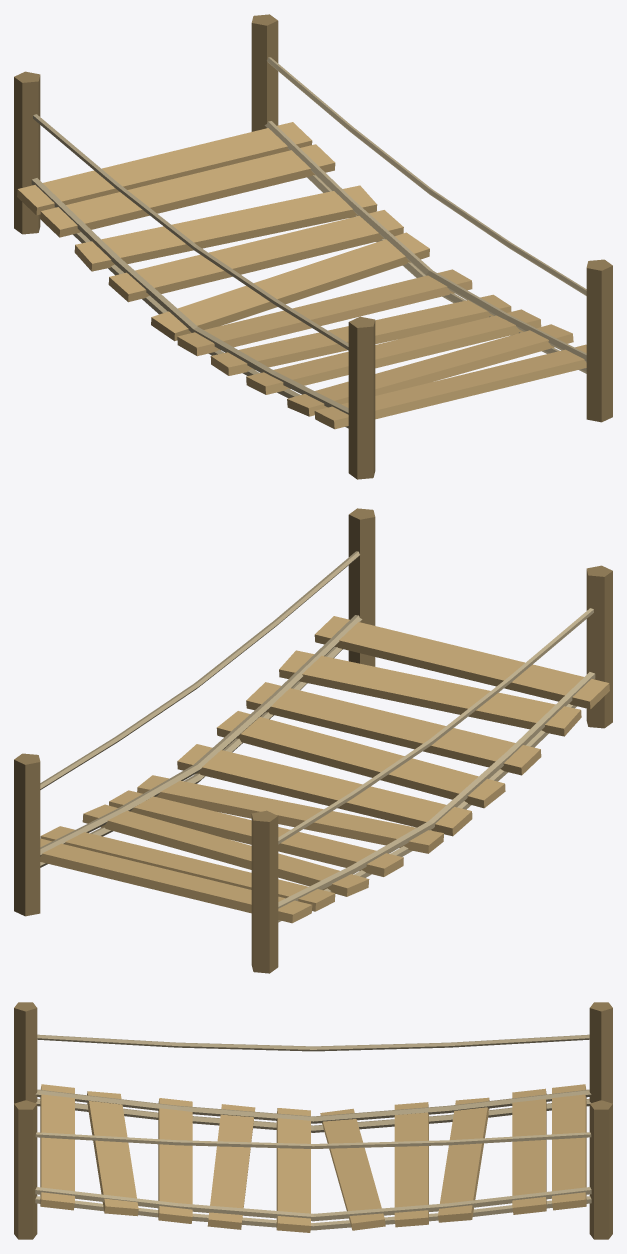
Rendered from Bridge_1_4.fbx.
3 views of the same model, one above another, from view 1: azimuth 30°, elevation 25°; view 2: azimuth 150°, elevation 25°; view 3: azimuth 270°, elevation 25° (orthographic). The views are drawn at different scales.
Visible parts, largest first — view 1: Bridge_1_4; view 2: Bridge_1_4; view 3: Bridge_1_4.
Part boxes in pixels (x1,y1,x2,y2): Bridge_1_4: [14, 14, 612, 479]; Bridge_1_4: [14, 508, 612, 973]; Bridge_1_4: [14, 1002, 612, 1239].
Bounding box in the file's own units: 67.13 × 35.03 × 146.
